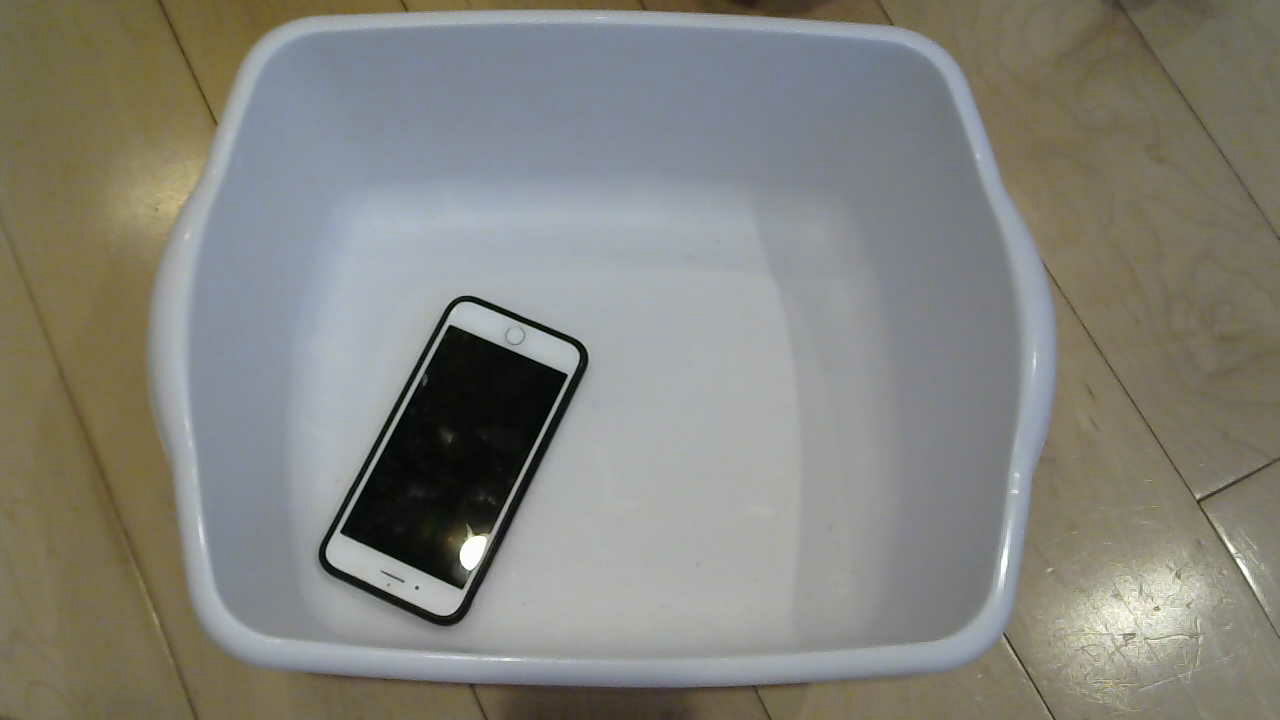phone: (318, 296, 597, 630)
